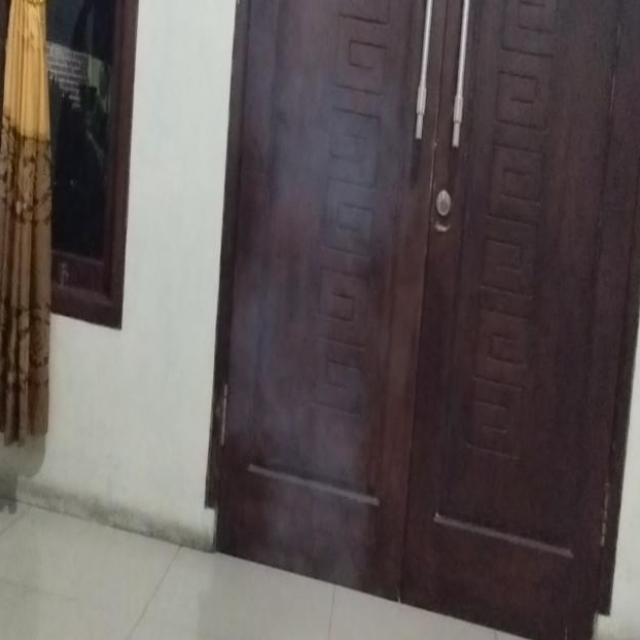fire: (231, 5, 386, 588)
